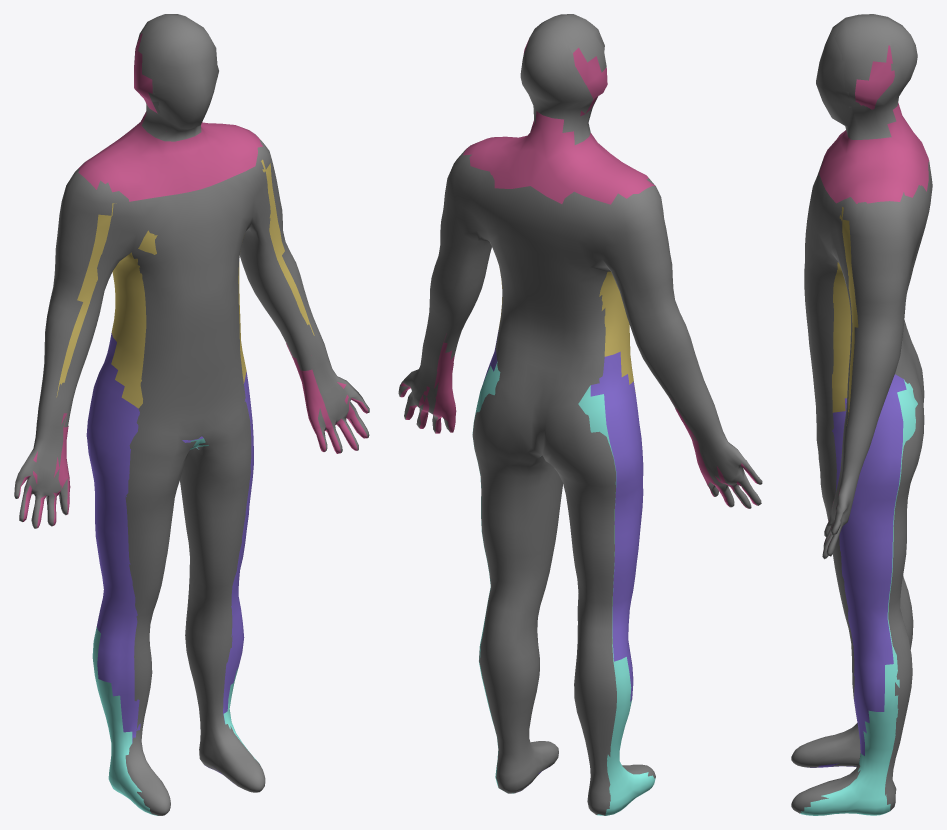
The model's file is intvis_bodymodelforunity.fbx.
The picture shows the model from 3 angles, left to right: view 1: azimuth 30°, elevation 25°; view 2: azimuth 150°, elevation 25°; view 3: azimuth 270°, elevation 25°; orthographic projection. The views are drawn at different scales.
Visible parts, largest first — view 1: bodyref_remesh, lumbarpain, cervicalpain, thoracicpain, sacralpain, trigeminalnerve; view 2: bodyref_remesh, cervicalpain, lumbarpain, sacralpain, thoracicpain, trigeminalnerve; view 3: bodyref_remesh, lumbarpain, cervicalpain, sacralpain, thoracicpain, trigeminalnerve.
Part boxes in pixels (bbox=[...]): bodyref_remesh: bbox=[14, 15, 369, 815]; lumbarpain: bbox=[86, 333, 253, 783]; cervicalpain: bbox=[18, 33, 368, 527]; thoracicpain: bbox=[56, 159, 314, 408]; sacralpain: bbox=[92, 438, 258, 815]; trigeminalnerve: bbox=[138, 14, 218, 114]; bodyref_remesh: bbox=[398, 24, 762, 815]; cervicalpain: bbox=[400, 38, 759, 508]; lumbarpain: bbox=[483, 330, 643, 791]; sacralpain: bbox=[472, 361, 655, 815]; thoracicpain: bbox=[498, 271, 635, 392]; trigeminalnerve: bbox=[529, 14, 606, 108]; bodyref_remesh: bbox=[791, 20, 932, 813]; lumbarpain: bbox=[807, 374, 906, 767]; cervicalpain: bbox=[819, 45, 928, 541]; sacralpain: bbox=[800, 379, 917, 815]; thoracicpain: bbox=[832, 207, 858, 425]; trigeminalnerve: bbox=[834, 14, 893, 107].
Size of the model in its own units: 42.73 by 87.45 by 14.51.
